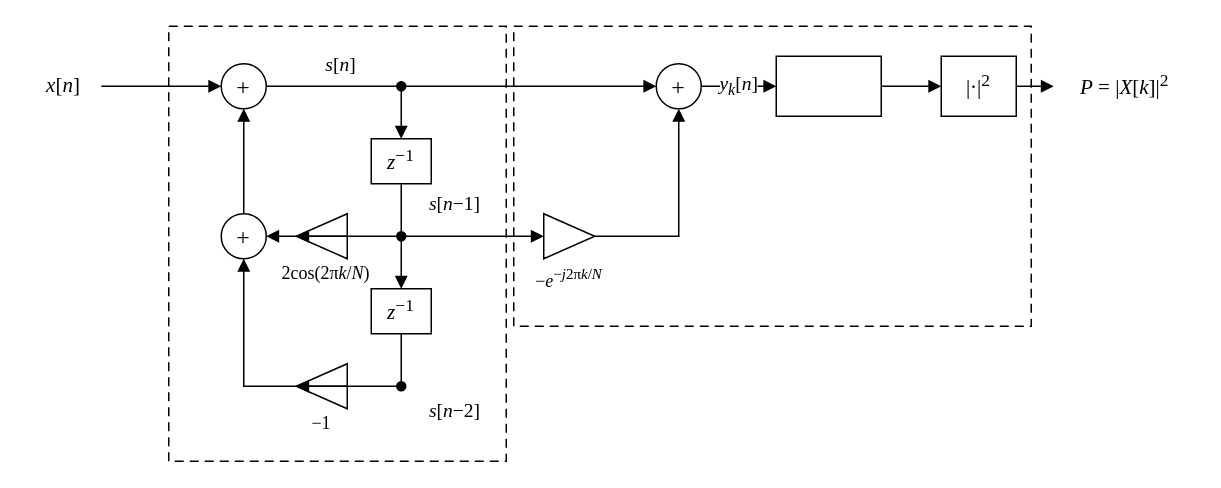
The diagram is 1221 pixels wide and 488 high, and some of its shapes have lost their labels. The shapes that lost their labels are listed below. From the top down, each one's box as (x1, y1, x2, y2) in pixels, then its label:
(775, 55, 881, 116): lấy tại n = N
(512, 25, 1031, 326): Phần không đệ quy: tính một lần
(167, 25, 506, 461): Phần truy hồi: chạy trên mọi mẫu
